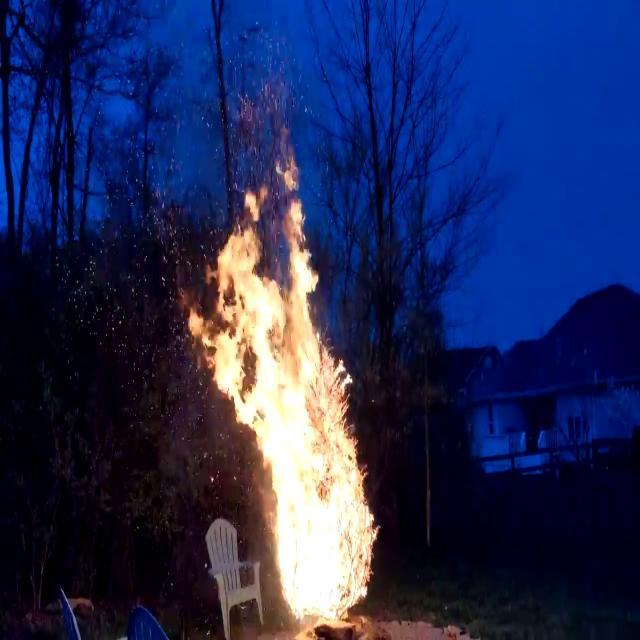Fire: (182, 140, 384, 622)
